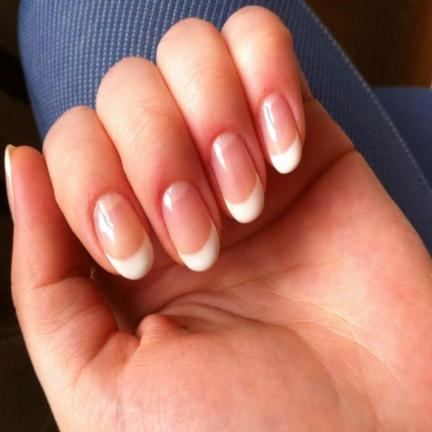Nail: (161, 181, 221, 272), (93, 192, 154, 280), (210, 132, 265, 223), (259, 93, 302, 174), (4, 145, 15, 225)
